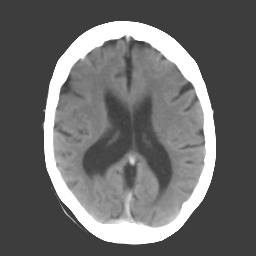ischemic: (66, 106, 99, 132)
